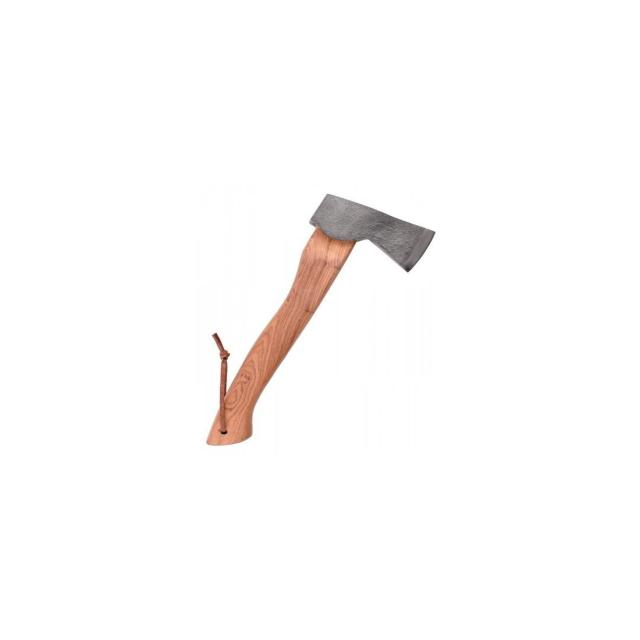Kapak: (232, 184, 434, 465)
